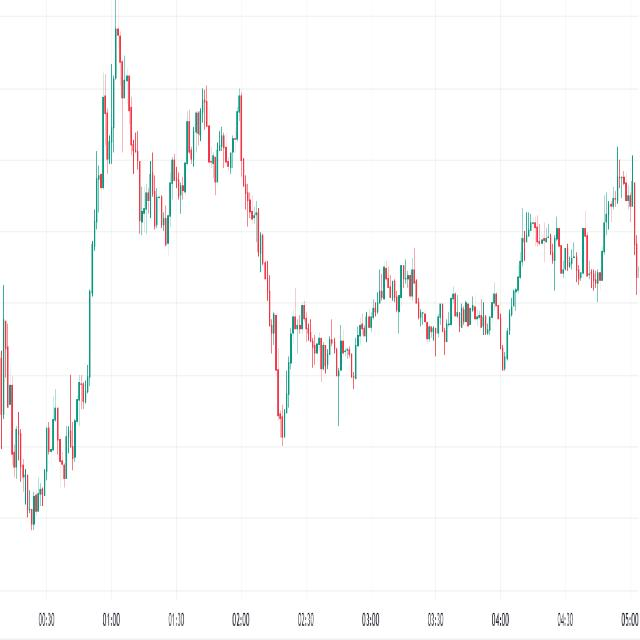Head-Shoulders: (93, 6, 143, 194)
Inverse-Head-Shoulders: (265, 283, 305, 446)
Rounding-Bottom: (124, 90, 204, 254)
